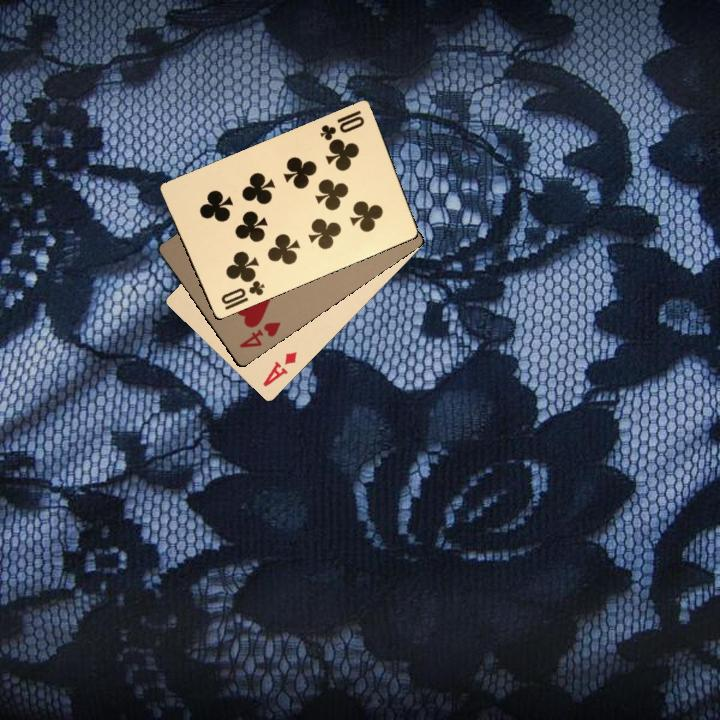10c: (316, 106, 367, 145), (217, 276, 267, 312)
4h: (235, 318, 283, 351)
Ad: (259, 348, 300, 389)
